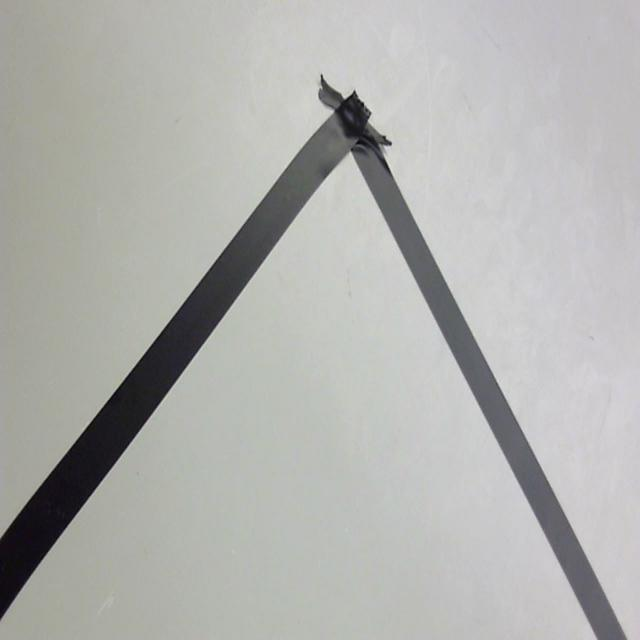tape: (0, 51, 640, 640)
